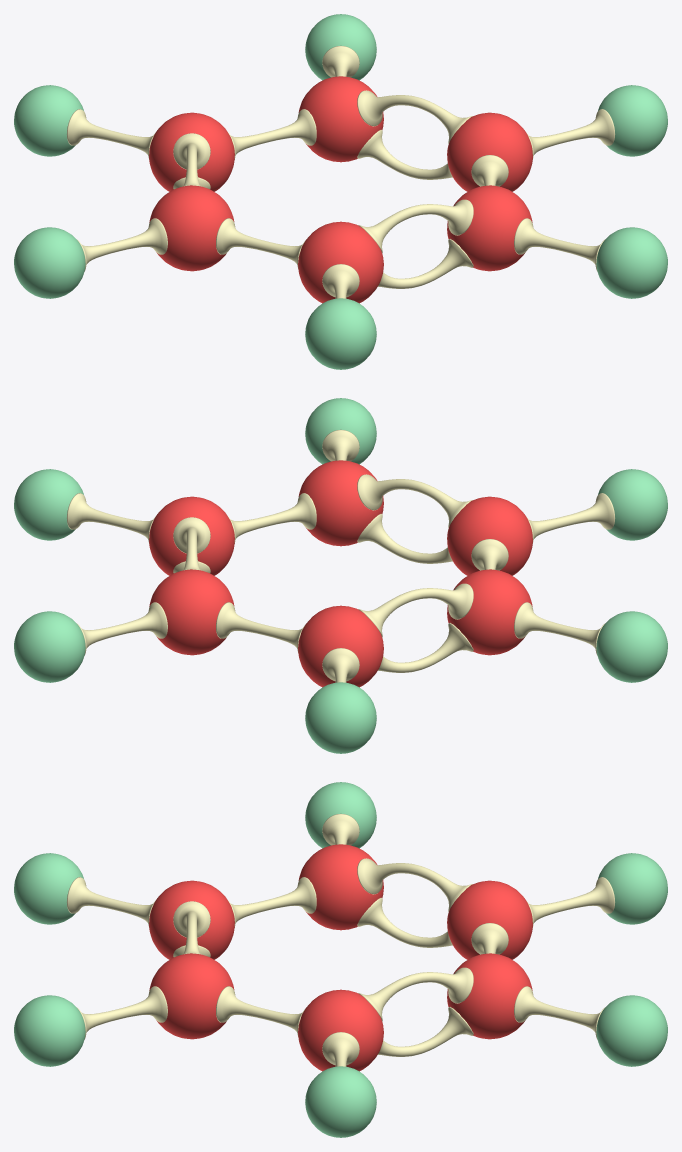
Rendered from benzene.glb.
The picture shows the model from 3 angles, top to bottom: view 1: azimuth 30°, elevation 25°; view 2: azimuth 150°, elevation 25°; view 3: azimuth 270°, elevation 25°; orthographic projection.
Visible parts, largest first — view 1: benzene; view 2: benzene; view 3: benzene.
Boxes of the visible parts, <box> form: benzene: <box>14,14,667,369</box>; benzene: <box>14,398,667,753</box>; benzene: <box>14,782,667,1137</box>.
Bounding box in the file's own units: 1.32 × 0.1573 × 1.16.
